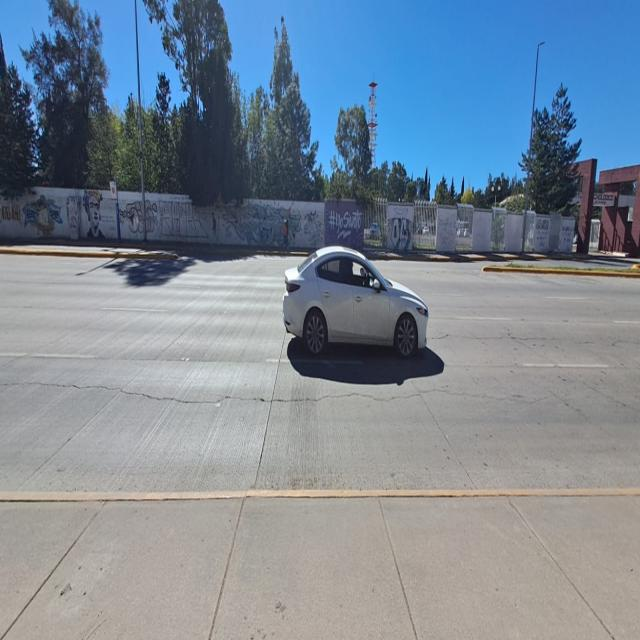Auto: (282, 231, 430, 366)
Autobus: (280, 214, 292, 251)
